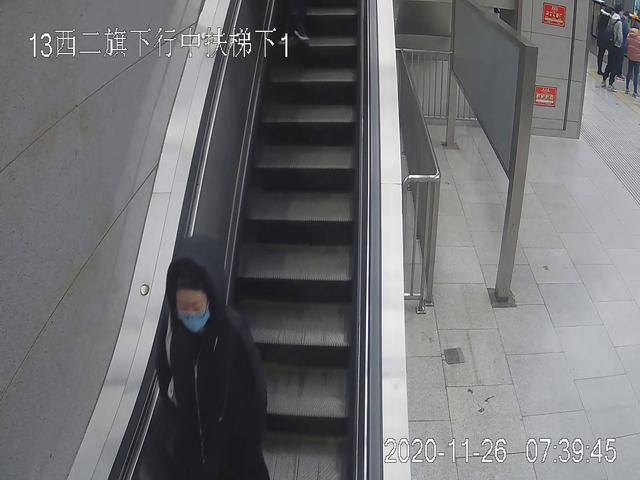person: (156, 238, 265, 480), (599, 6, 625, 93)
